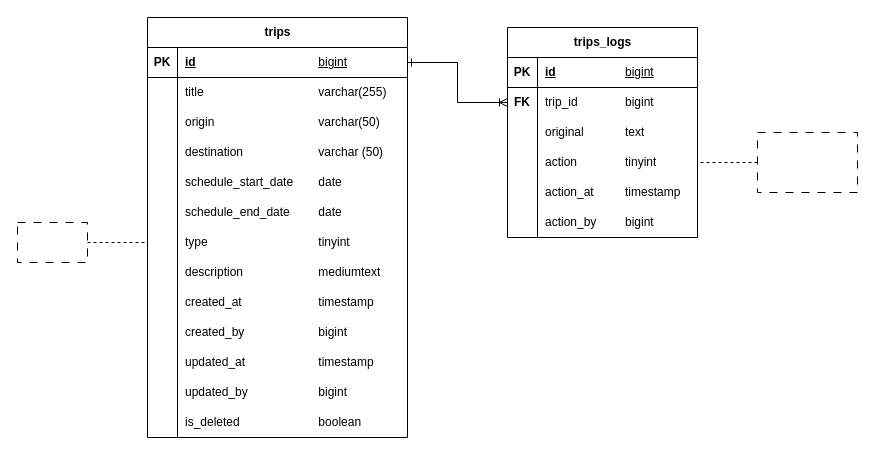
Some shapes in this 875 by 455 pixel diagram are drawn without their labels. The centre of each missing label's shape, as x and y in pixels:
ADD (1) MODIFIED (2) DELETE (0): the point at 807,162
single (1) multi (2): the point at 52,242
